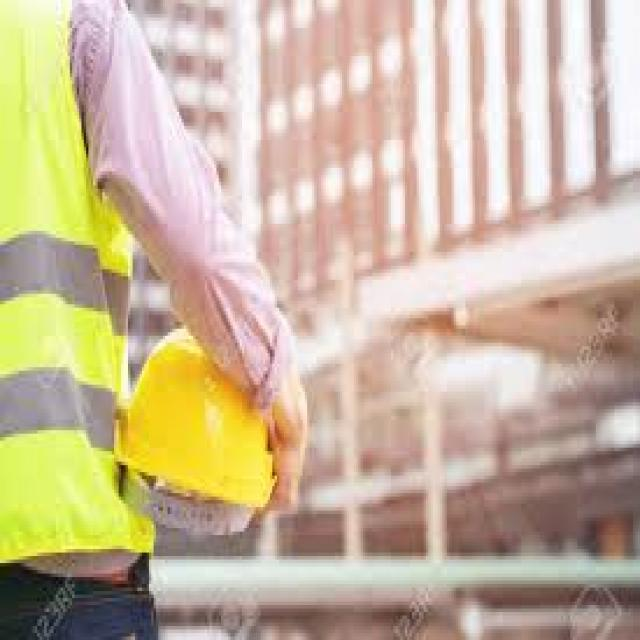Reflective-Jacket: (5, 0, 156, 605)
Safety-Helmet: (95, 313, 292, 540)
